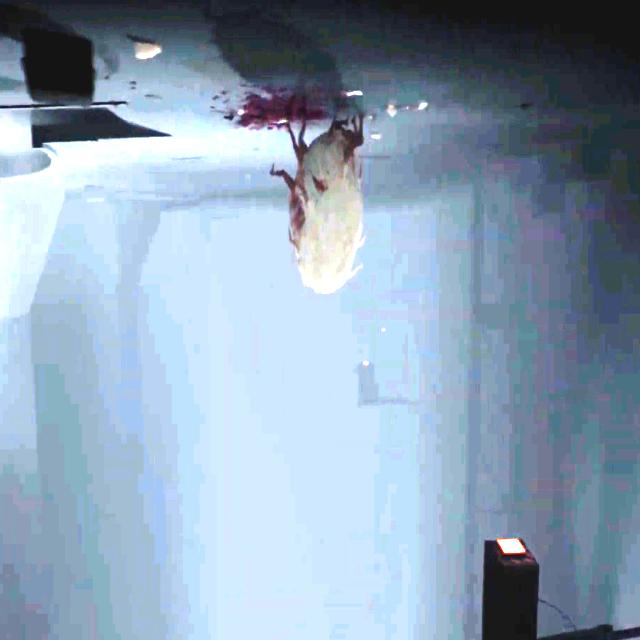blob: (270, 110, 366, 295)
interactible: (482, 536, 540, 640), (359, 359, 378, 403)
structure: (471, 170, 525, 640)
